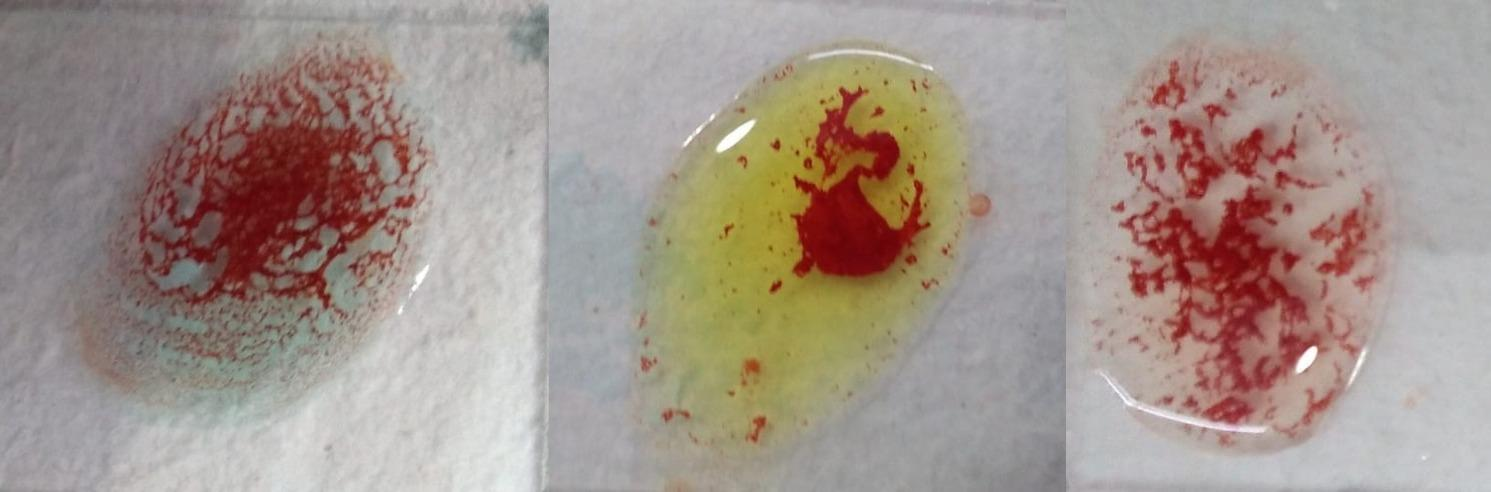A: (66, 27, 440, 421)
B: (636, 40, 974, 461)
D: (1083, 43, 1386, 454)
